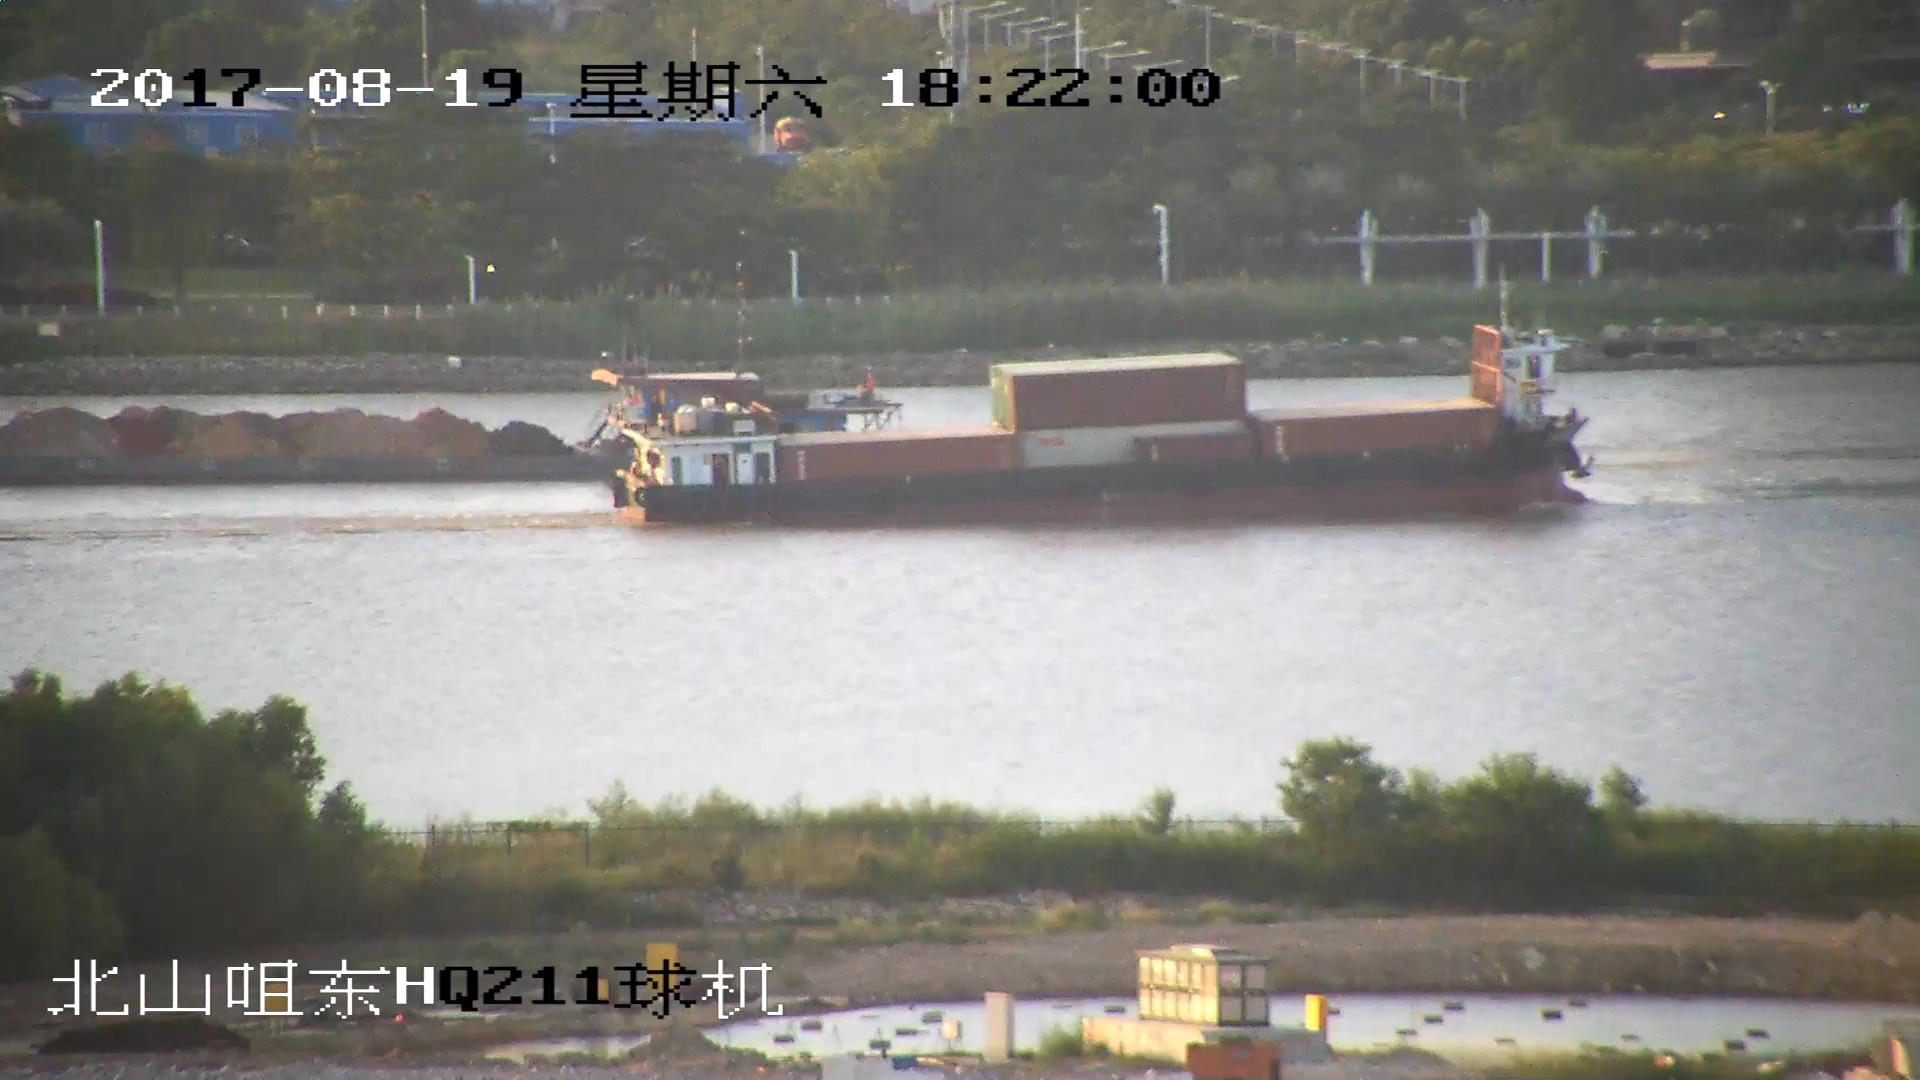container ship: (593, 280, 1584, 529)
ore carrier: (1, 399, 588, 486)
